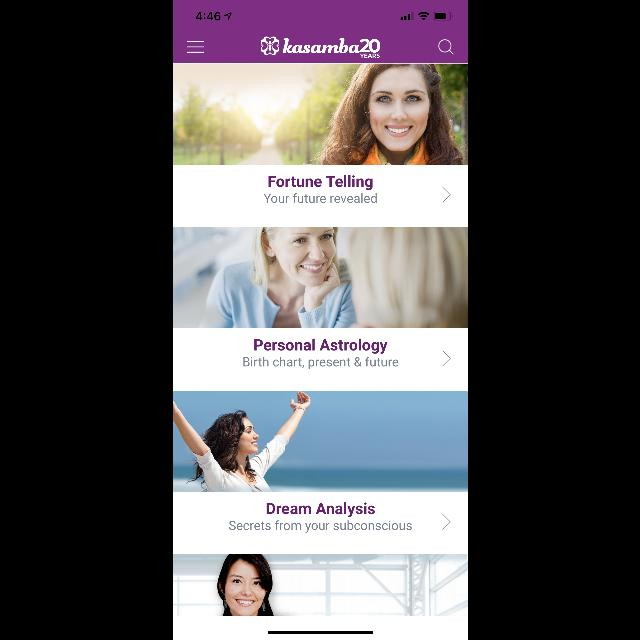icon: (438, 40, 452, 54), (187, 41, 203, 53), (442, 514, 450, 530), (442, 348, 450, 362), (442, 188, 450, 202)
image: (172, 391, 468, 492), (172, 228, 468, 328), (172, 64, 468, 164), (172, 554, 468, 616), (260, 36, 380, 58)
text: (228, 520, 412, 532), (254, 338, 386, 354), (242, 357, 398, 369), (266, 502, 374, 518), (268, 176, 372, 190), (264, 193, 376, 203)
uppertaskbar: (195, 12, 452, 21)
